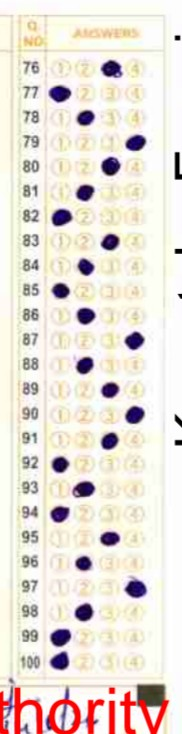filled circles: (125, 579, 146, 597), (101, 156, 120, 175), (50, 628, 70, 646), (101, 60, 122, 77), (49, 85, 70, 102), (73, 481, 94, 497), (125, 331, 143, 349), (75, 603, 93, 621), (125, 406, 144, 423), (50, 652, 68, 669), (76, 357, 94, 374), (77, 307, 95, 324), (52, 209, 71, 225), (50, 506, 69, 522), (126, 134, 145, 150), (101, 432, 118, 449), (77, 110, 95, 126), (101, 234, 119, 250), (76, 184, 93, 200), (100, 531, 119, 545), (52, 456, 68, 472), (101, 382, 118, 397), (78, 258, 93, 275), (52, 283, 69, 298), (75, 556, 92, 571)
